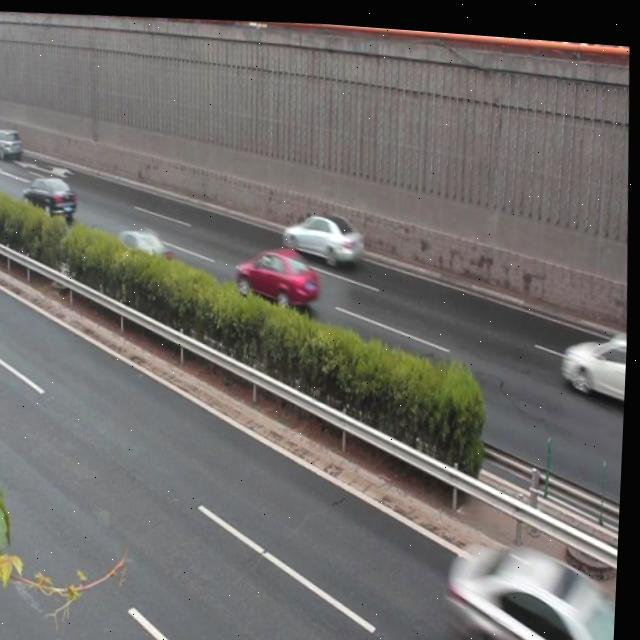car: (442, 518, 623, 640), (559, 310, 630, 407), (232, 235, 322, 310), (281, 199, 367, 267), (105, 219, 176, 278), (21, 171, 81, 223)
